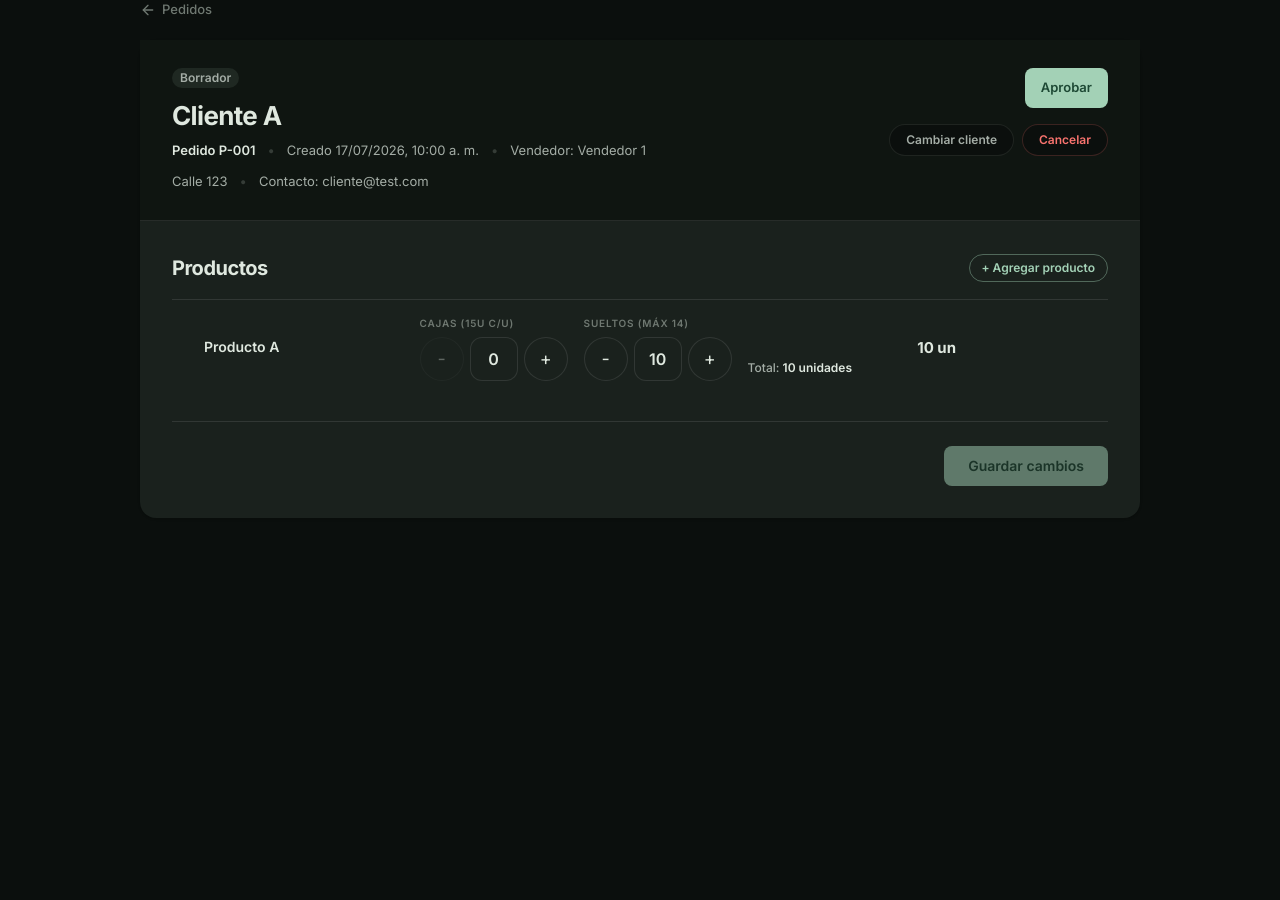
Test: PedidoDetailPage › crea un cliente nuevo con validaciones
Expected: the text "Pedido P-001" is shown, [172, 140, 256, 160]
Click the button "Cambiar cliente": (952, 140) [889, 124, 1014, 156]
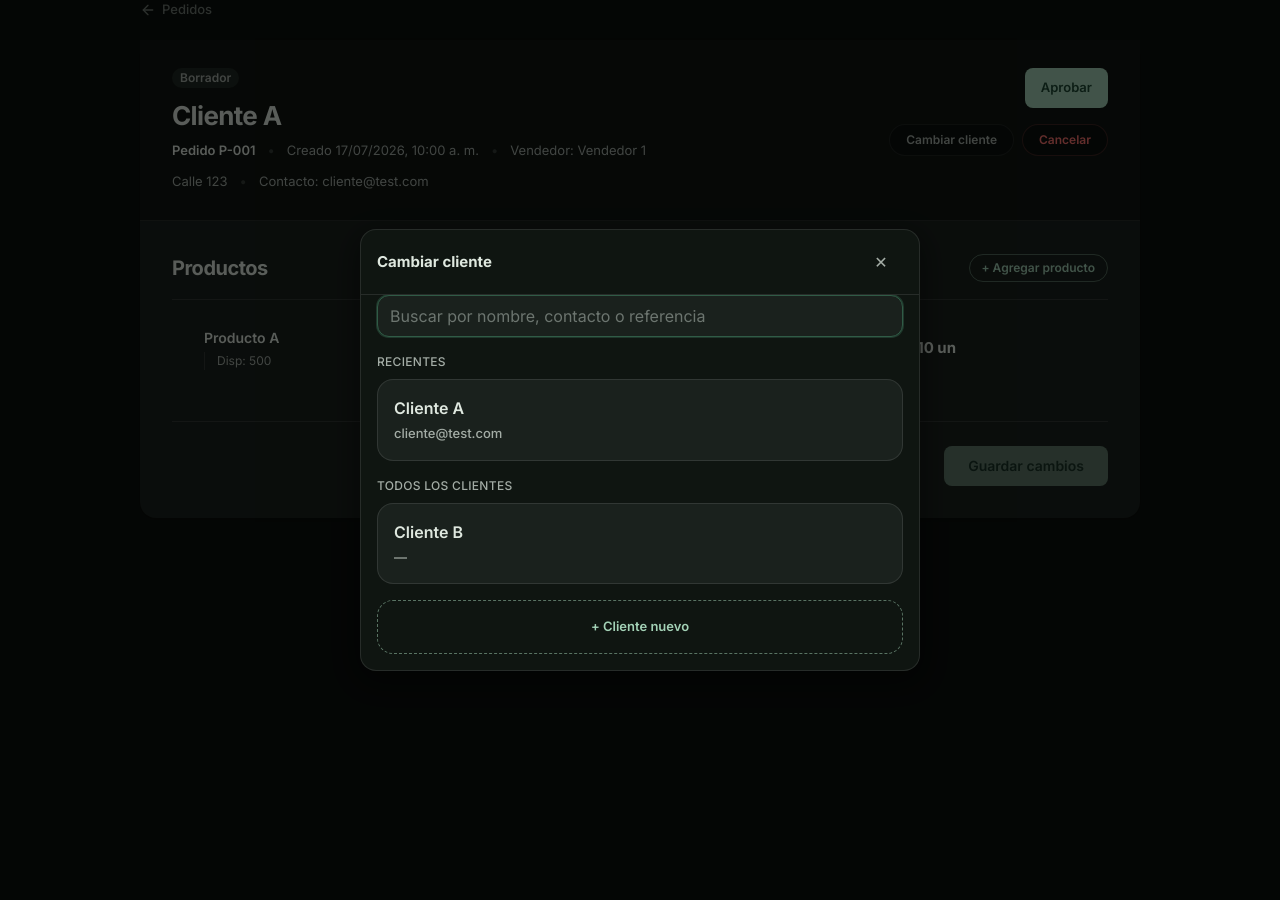
Expected: the dialog with test id "bottom-sheet" is shown, [360, 229, 920, 671]
Click the button "+ Cliente nuevo": (640, 627) [377, 600, 903, 654]
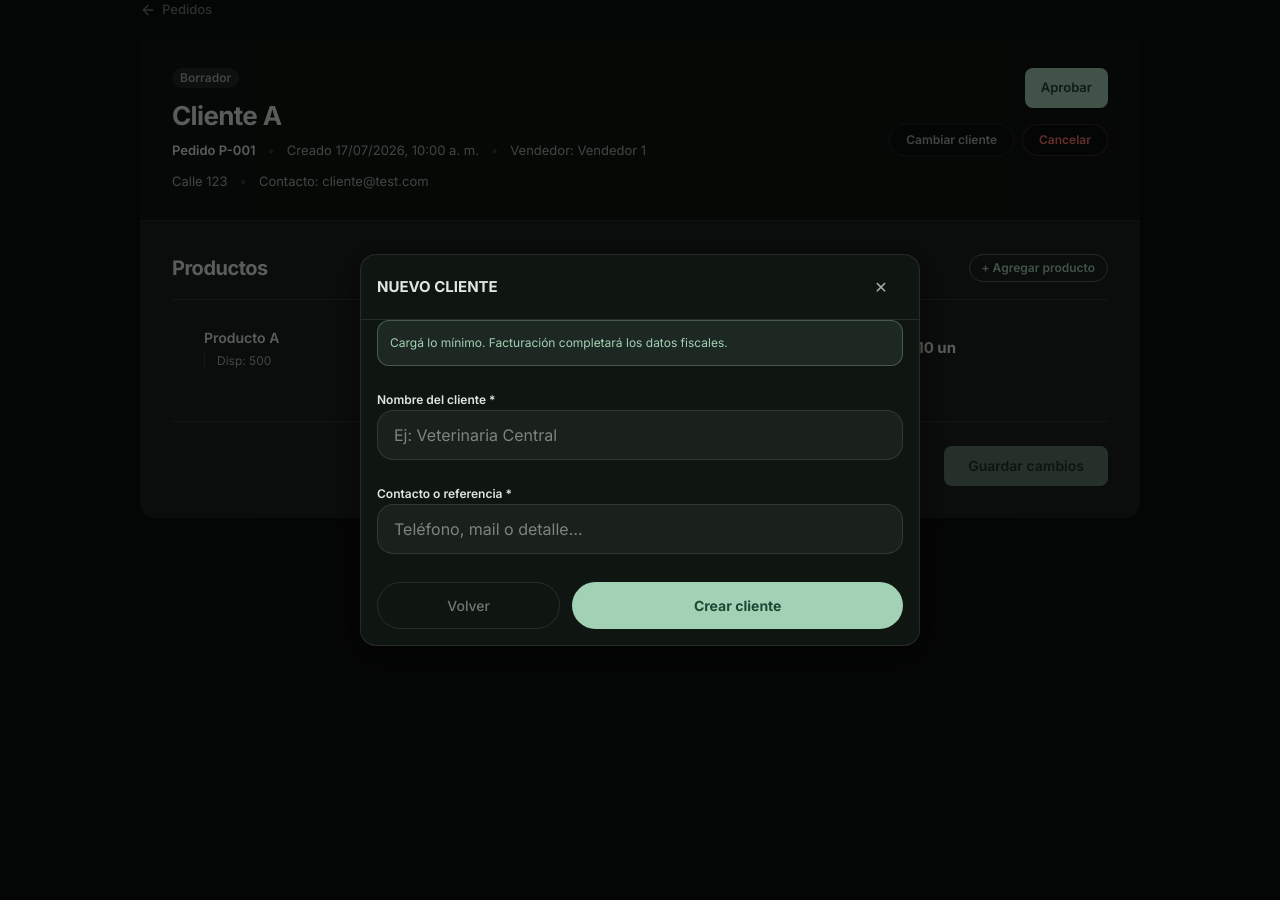
Expected: the text "Cargá lo mínimo. Facturación completará los datos fiscales." is shown, [377, 320, 903, 366]
Click the button "Crear cliente": (738, 605) [572, 582, 903, 629]
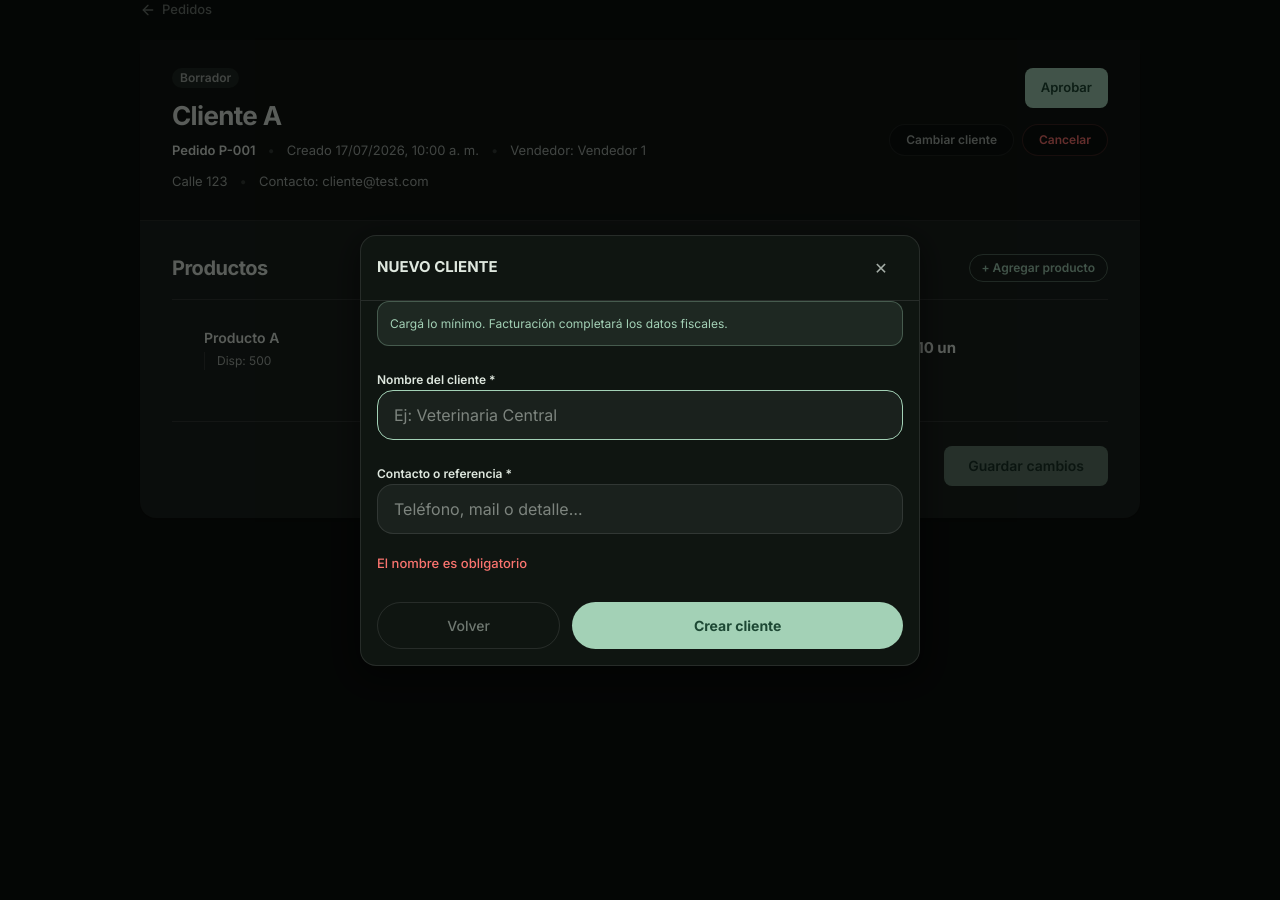
Expected: the message reads "El nombre es obligatorio", [377, 555, 527, 571]
In the field labelled "Nombre del cliente *": (640, 415) [377, 390, 903, 440], type "Nuevo Cliente"
Click the button "Crear cliente": (738, 625) [572, 602, 903, 648]
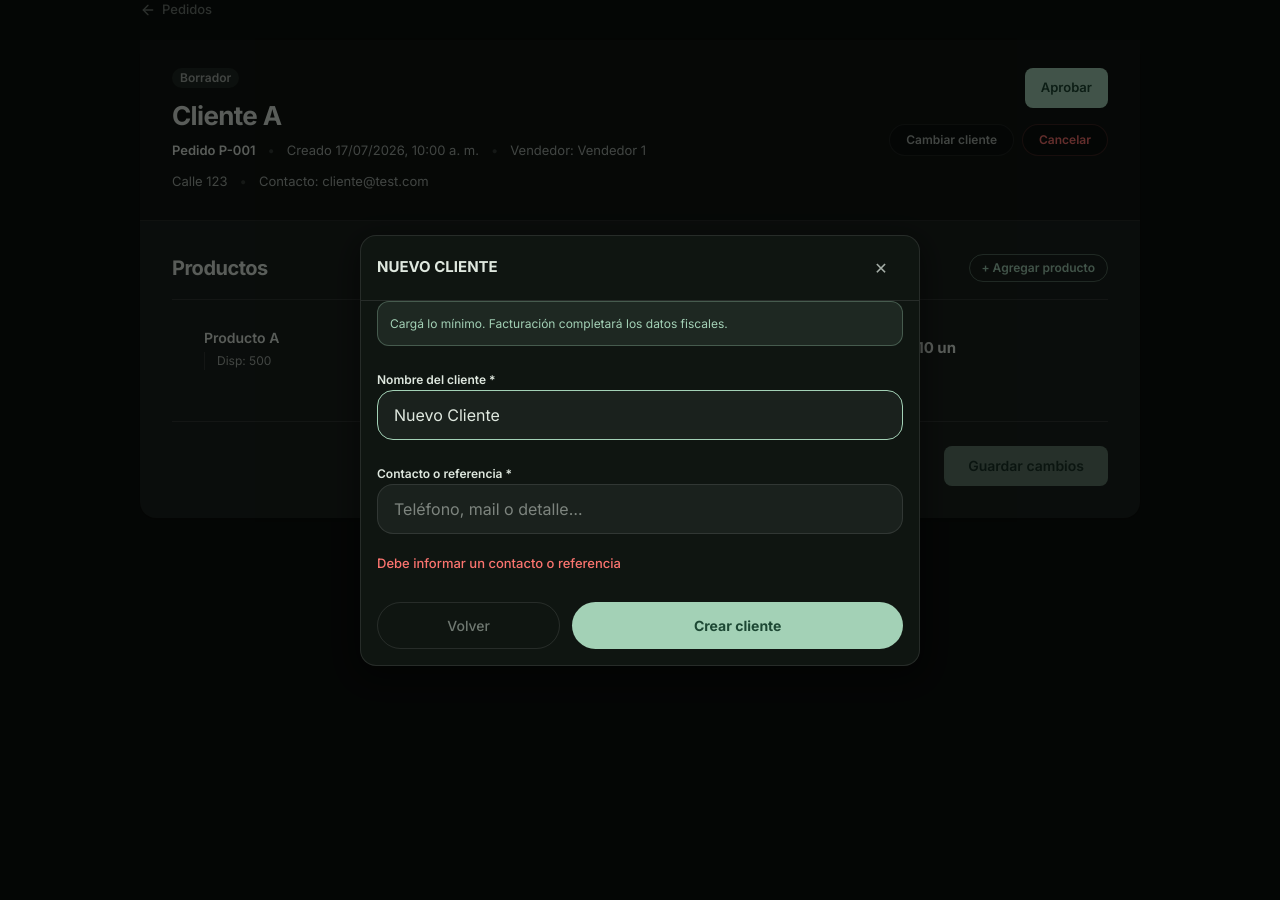
Expected: the message reads "Debe informar un contacto o referencia", [377, 555, 621, 571]
In the field labelled "Contacto o referencia *": (640, 509) [377, 484, 903, 534], type "11 5555-0000"
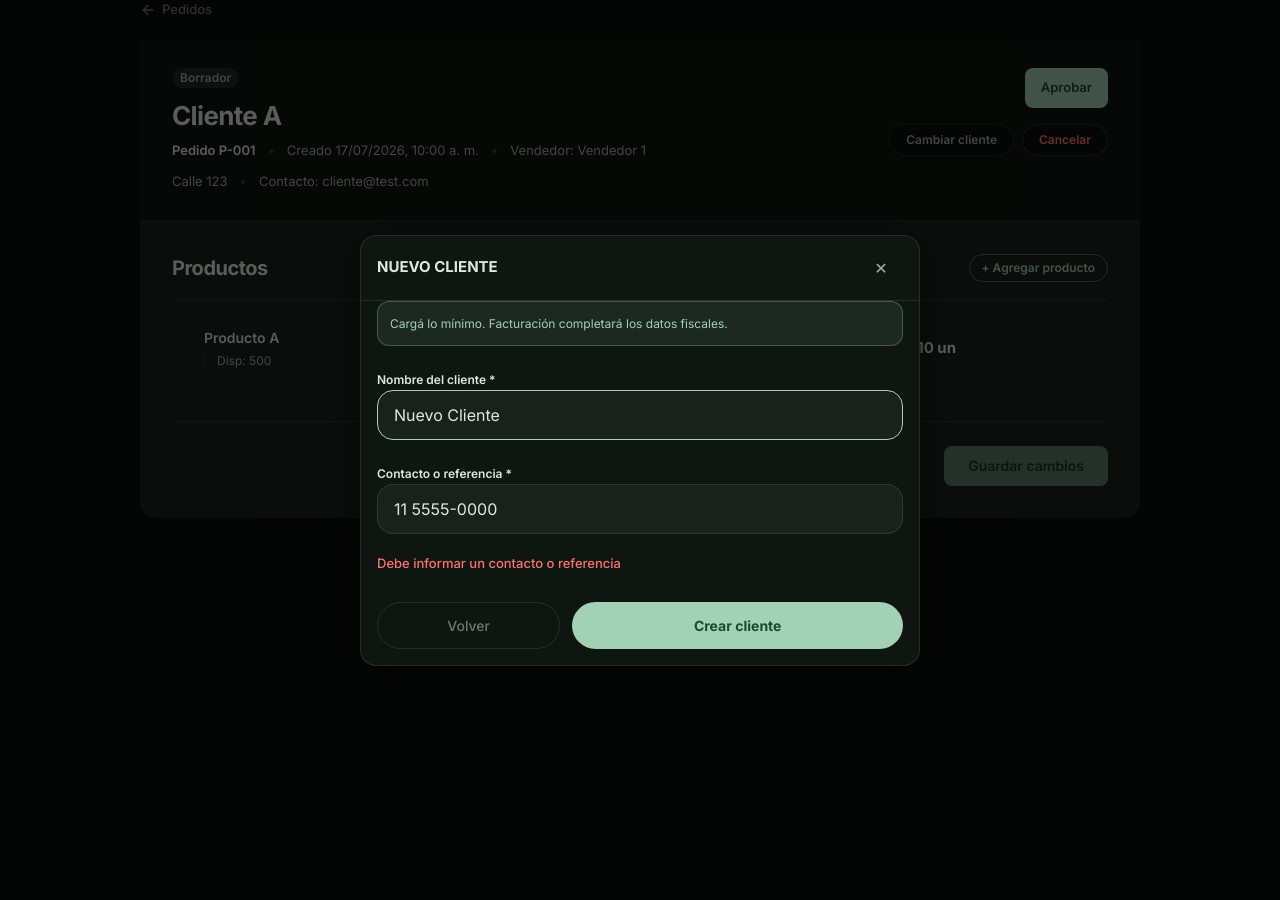
Click the button "Crear cliente": (738, 625) [572, 602, 903, 648]
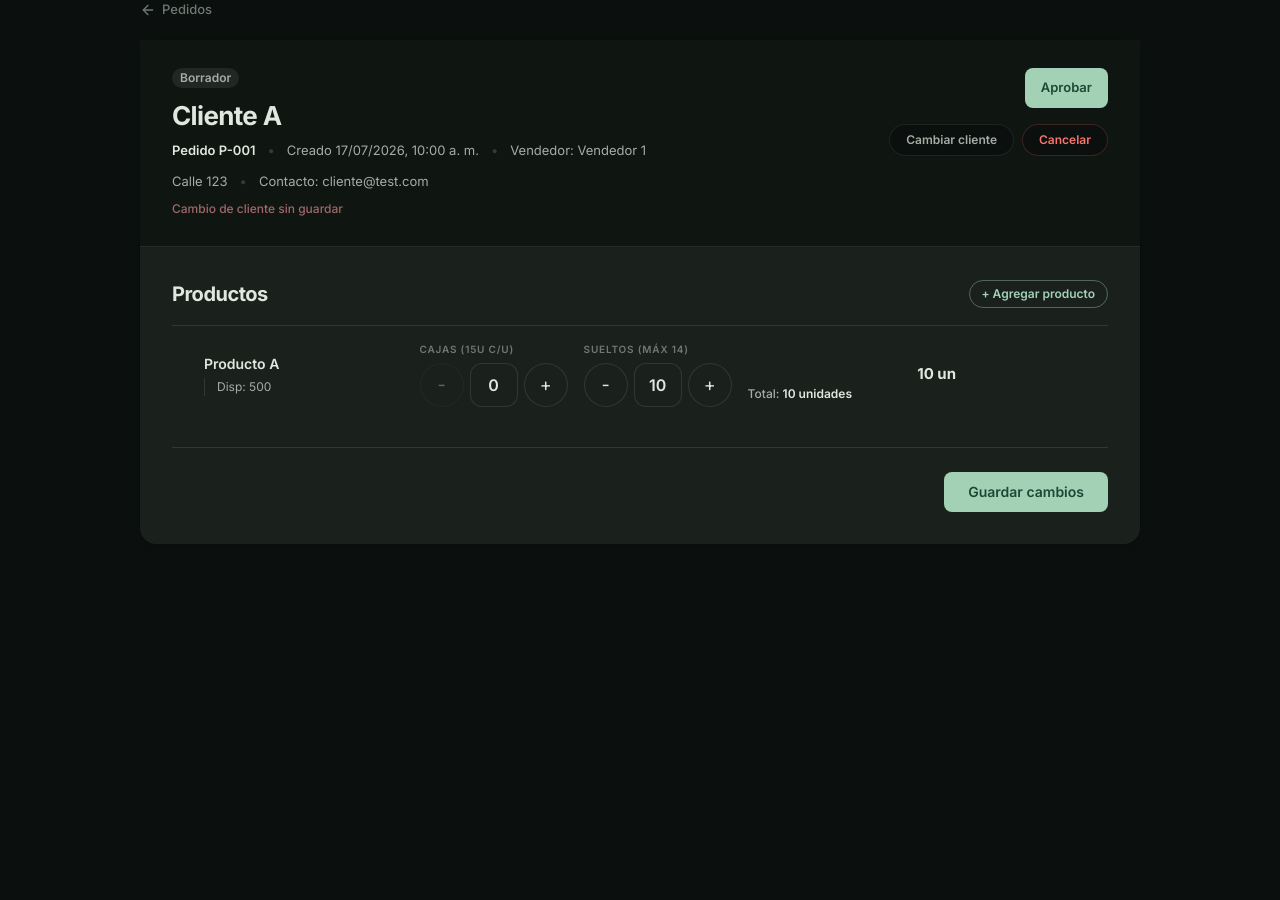
Expected: the text "Cambio de cliente sin guardar" is shown, [172, 200, 343, 216]
